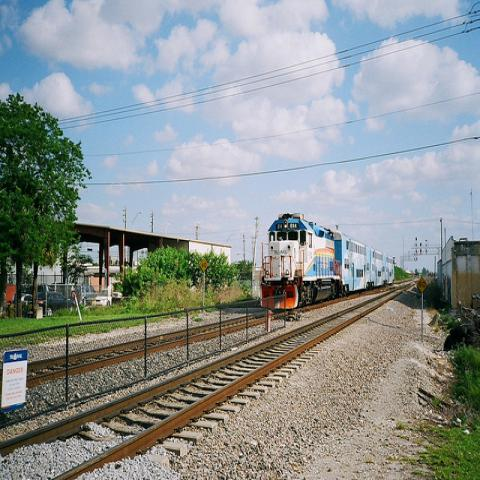car: (47, 290, 76, 315), (74, 284, 100, 307), (95, 287, 112, 307), (112, 280, 124, 299), (21, 293, 33, 305)
